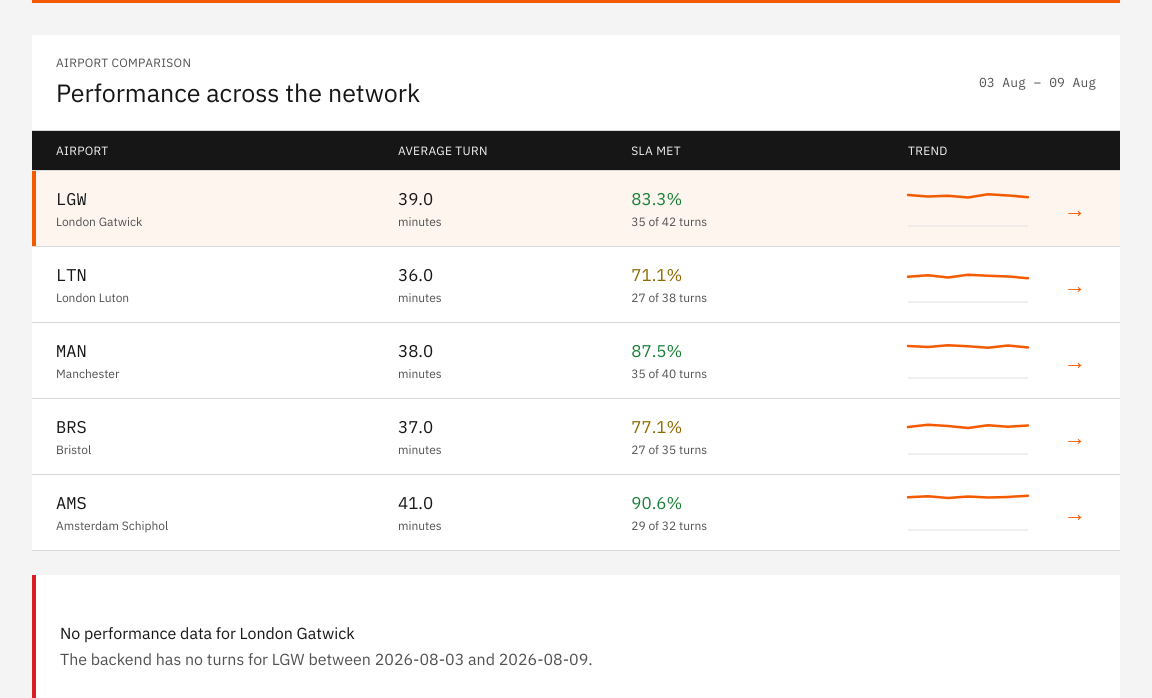
aircraft turn dashboard › recovers the detail pane after a failed airport request
The width and height of the screenshot is (1152, 698).
(page scrolled)
Expected: the message shows "No performance data for London Gatwick", 60,623 -> 355,643
Click the button with aria-label "View Manchester performance". click: (71, 351)
box: 32,323 -> 1120,399
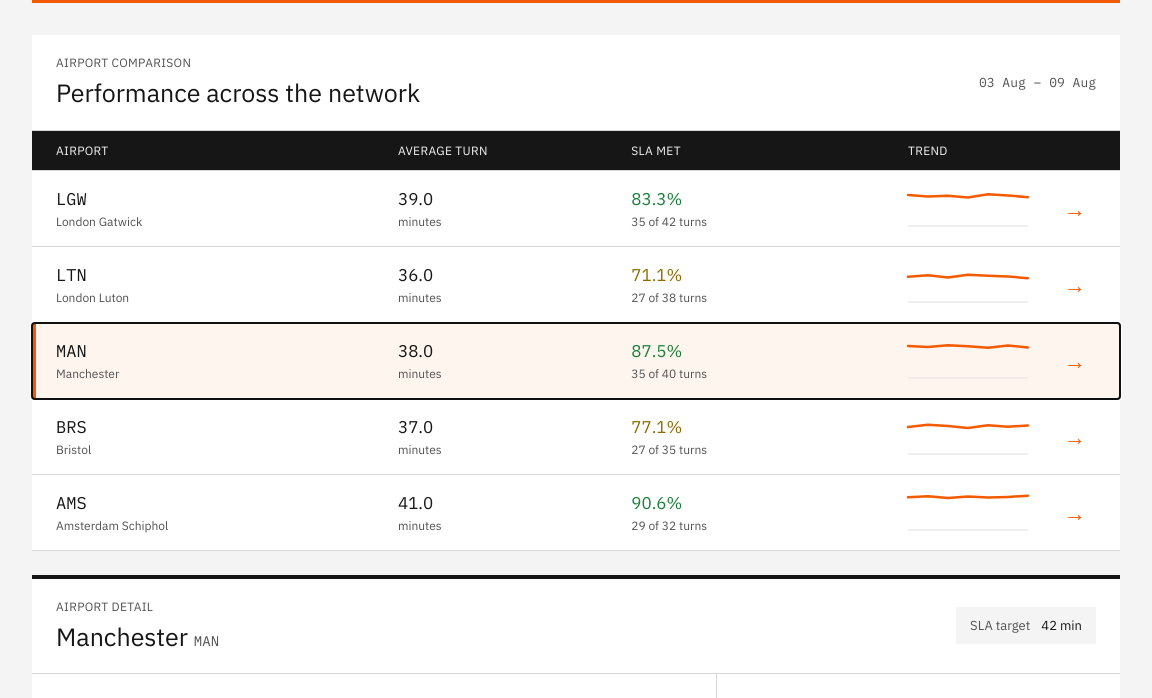
Result: the heading "Manchester MAN" is shown at 56,620 -> 219,653
